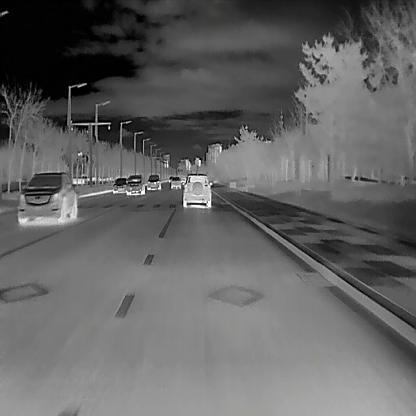car: (16, 171, 77, 224), (183, 173, 212, 207), (126, 174, 145, 194), (112, 176, 127, 192), (146, 174, 161, 189), (169, 176, 181, 189), (168, 176, 173, 182)
